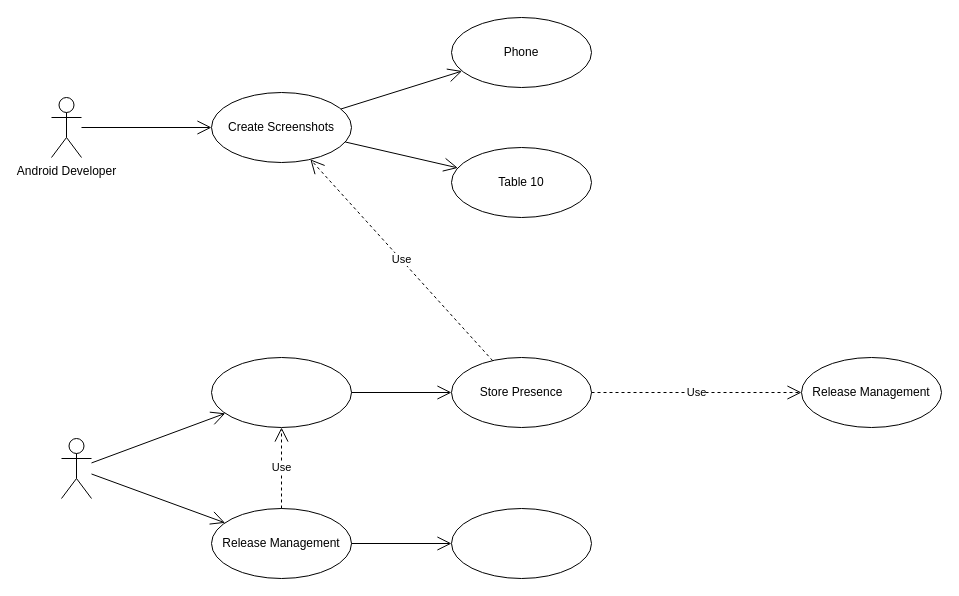
The diagram is 959 pixels wide and 596 high, and some of its shapes have lost their labels. Here are the shapes that lost their labels. From the top down, the centre of each, then its label:
(281,392): Create Application
(76,468): Google Play Admin
(521,543): Upload Bundle
